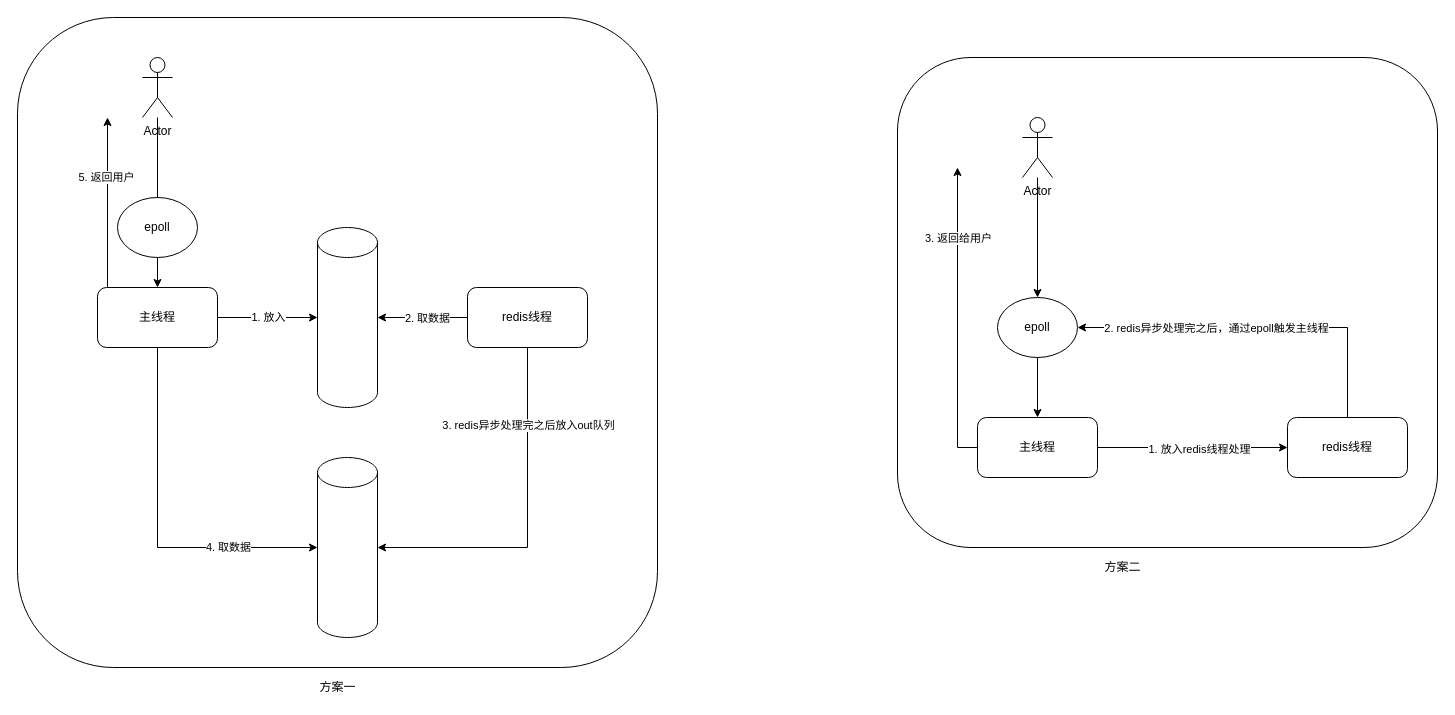
Some shapes in this 1455 by 715 pixel diagram are drawn without their labels. The shapes that lost their labels are listed below. From the top down, each one's centre as x and y in pixels, then its label:
[347,317]: in 队列
[347,547]: out 队列
